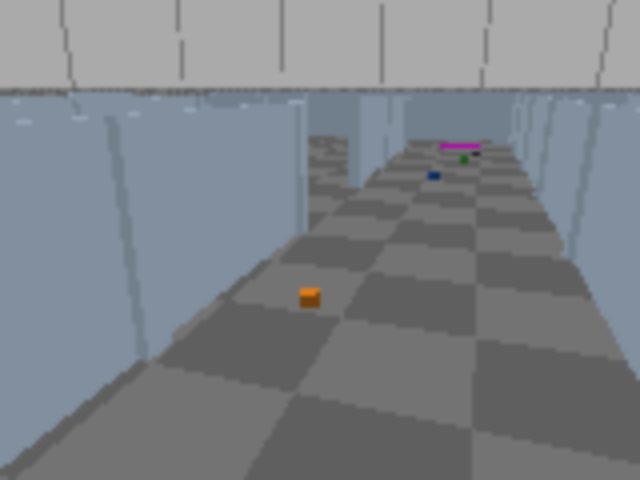puck: (299, 287, 320, 309)
